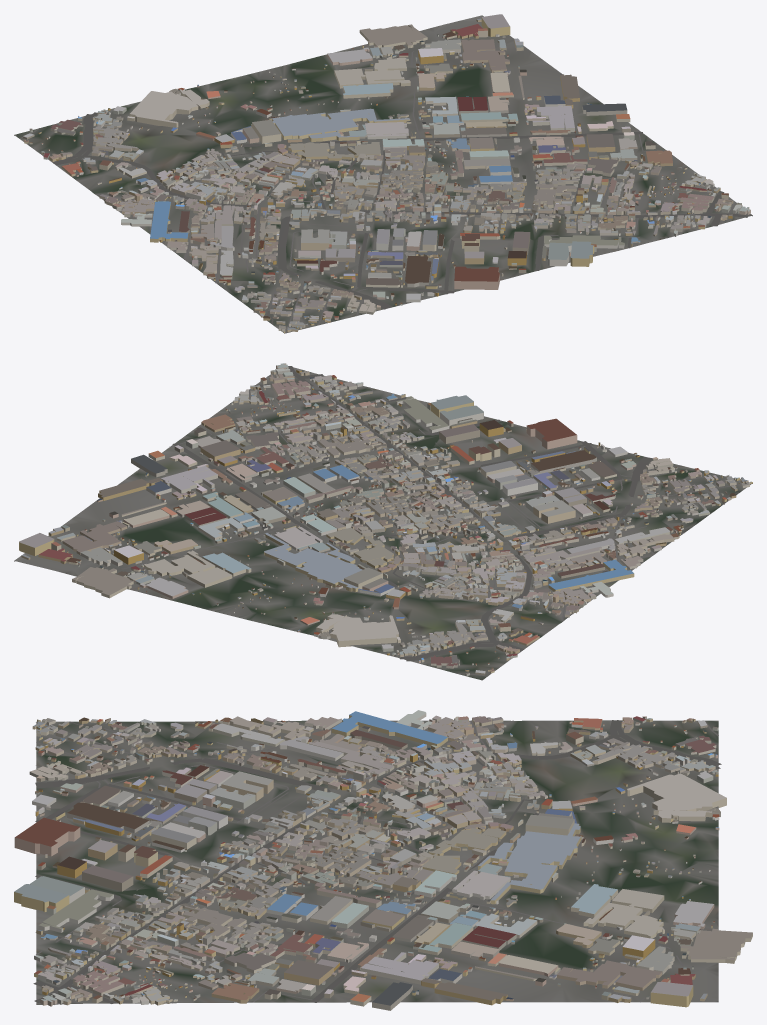
The picture shows the model from 3 angles, top to bottom: view 1: azimuth 30°, elevation 25°; view 2: azimuth 150°, elevation 25°; view 3: azimuth 270°, elevation 25°; orthographic projection. The views are drawn at different scales.
Parts seen in each view (by area): view 1: buildings, ground, roads; view 2: buildings, ground, roads; view 3: buildings, ground, roads.
Boxes of the visible parts, x1,y1,x2,y2 form: buildings: (23, 14, 750, 333); ground: (14, 15, 752, 333); roads: (19, 38, 748, 333); buildings: (19, 363, 752, 676); ground: (14, 366, 752, 680); roads: (87, 366, 745, 676); buildings: (14, 710, 752, 1010); ground: (36, 720, 718, 1004); roads: (33, 720, 721, 1004).
Bounding box in the file's own units: 1475 × 43.69 × 1517.
